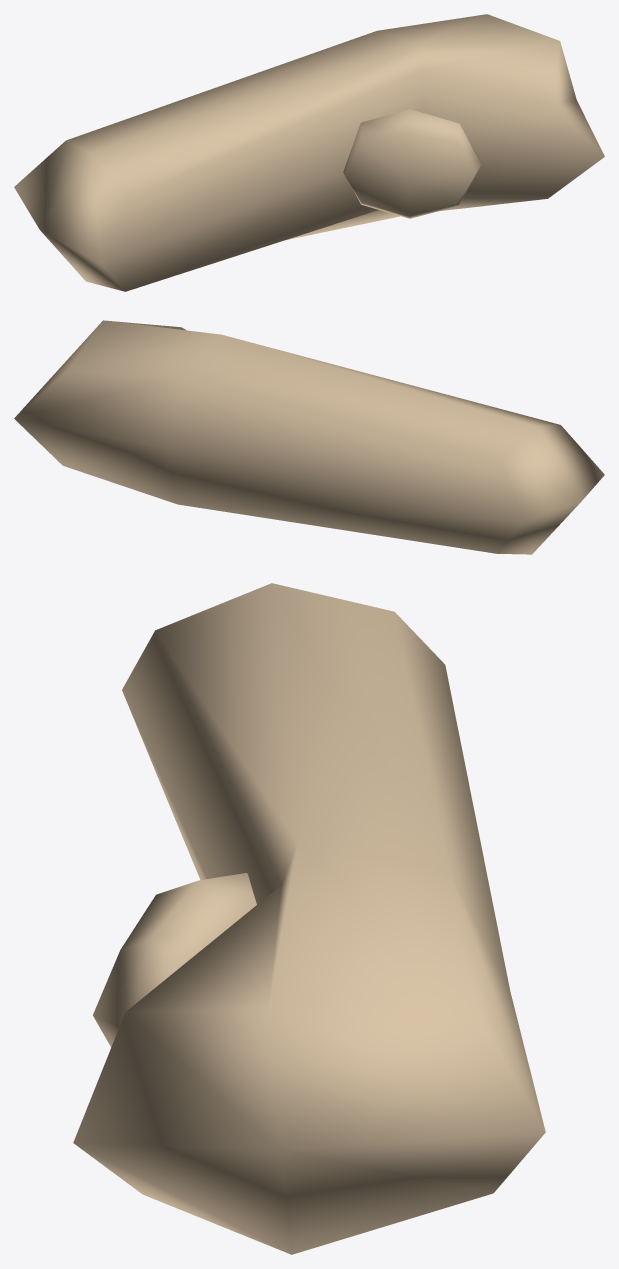
Rendered from armleft.fbx.
3 renders of one model, top to bottom at view 1: azimuth 30°, elevation 25°; view 2: azimuth 150°, elevation 25°; view 3: azimuth 270°, elevation 25°, orthographic. The views are drawn at different scales.
Visible parts, largest first — view 1: polySurface4, polySurface2; view 2: polySurface4; view 3: polySurface4, polySurface2.
Boxes of the visible parts, <box> form: polySurface4: <box>14,14,604,291</box>; polySurface2: <box>343,109,480,218</box>; polySurface4: <box>14,320,604,554</box>; polySurface4: <box>73,583,545,1254</box>; polySurface2: <box>93,873,256,1047</box>.
Size of the model in its own units: 1.51 by 0.4728 by 0.6169.
